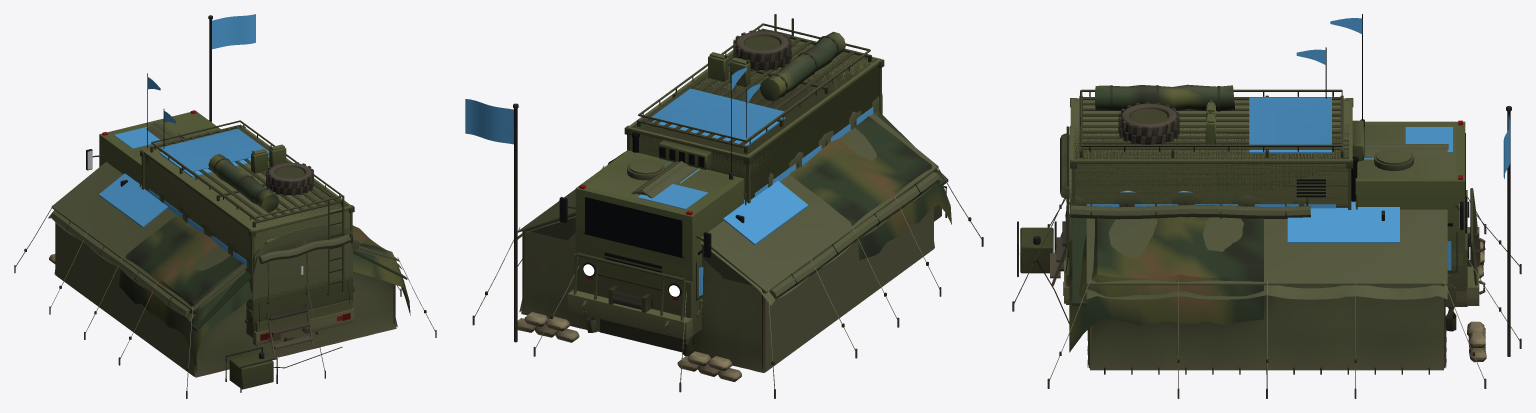
Rendered from camp.glb.
The picture shows the model from 3 angles, left to right: view 1: azimuth 30°, elevation 25°; view 2: azimuth 150°, elevation 25°; view 3: azimuth 270°, elevation 25°; orthographic projection. The views are drawn at different scales.
Visible parts, largest first — view 1: Tent, SpawnBody, TentFar, Far, SupplyTruckFar, SupplyTruck; view 2: SpawnBody, Tent, TentFar, Far, SupplyTruckFar, SupplyTruck; view 3: Tent, SpawnBody, Far, TentFar, SupplyTruck, SupplyTruckFar.
Boxes of the visible parts, x1,y1,x2,y2 form: Tent: (14, 14, 436, 398); SpawnBody: (86, 73, 354, 354); TentFar: (51, 122, 407, 376); Far: (99, 110, 349, 309); SupplyTruckFar: (245, 227, 352, 337); SupplyTruck: (120, 109, 359, 346); SpawnBody: (559, 14, 884, 333); Tent: (465, 99, 983, 398); TentFar: (517, 113, 948, 372); Far: (567, 39, 876, 339); SupplyTruckFar: (574, 111, 879, 337); SupplyTruck: (651, 84, 882, 317); Tent: (1012, 106, 1521, 398); SpawnBody: (1050, 14, 1485, 303); Far: (1074, 100, 1479, 305); TentFar: (1072, 143, 1447, 354); SupplyTruck: (1059, 47, 1466, 304); SupplyTruckFar: (1069, 141, 1467, 306).
Bounding box in the file's own units: 7.03 × 5.09 × 8.63.
